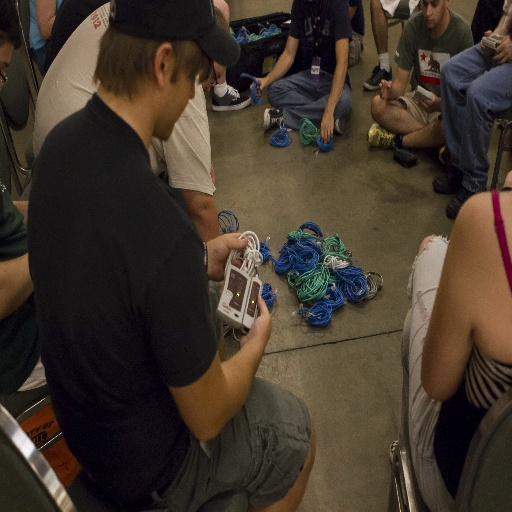hand: (206, 228, 251, 282), (238, 293, 272, 362), (490, 32, 511, 66), (416, 89, 439, 116), (319, 110, 334, 144), (478, 28, 495, 54), (248, 77, 266, 101), (377, 77, 393, 103)
